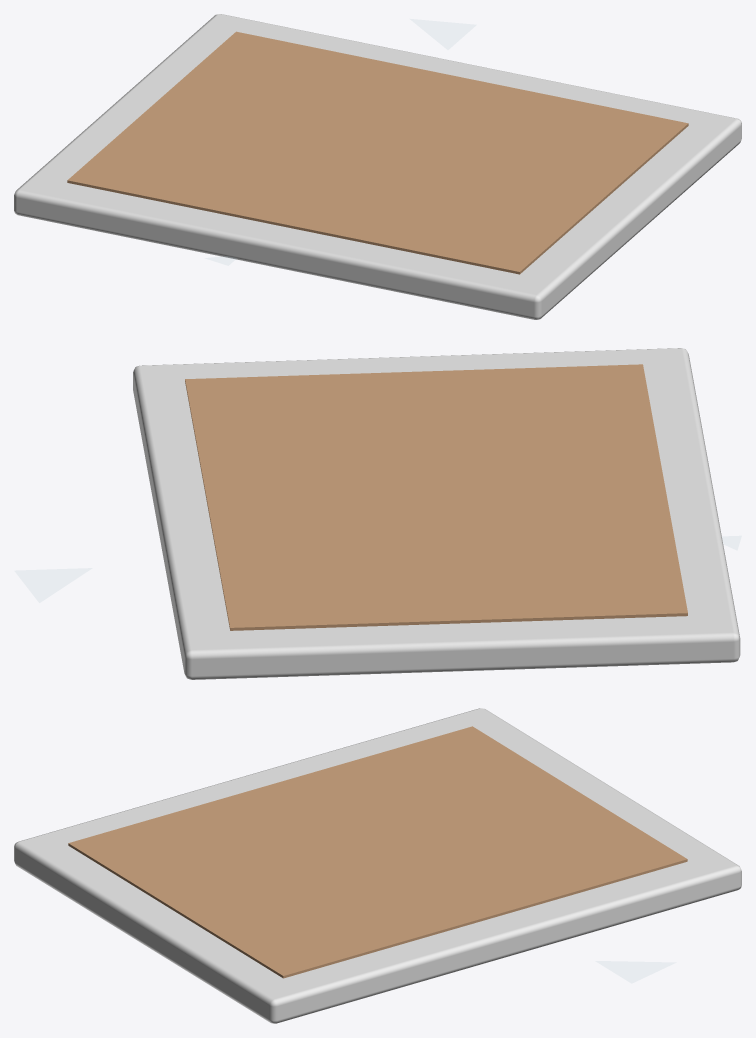
The model's file is ref_V_Porta_Retrato.glb.
The picture shows the model from 3 angles, top to bottom: view 1: azimuth 30°, elevation 25°; view 2: azimuth 150°, elevation 25°; view 3: azimuth 270°, elevation 25°; orthographic projection. The views are drawn at different scales.
Parts seen in each view (by area): view 1: V_Foto, V_Moldura, V_Cacos_Vidro; view 2: V_Foto, V_Moldura, V_Cacos_Vidro; view 3: V_Foto, V_Moldura, V_Cacos_Vidro.
Boxes of the visible parts, left/top/right/bottom form: V_Foto: left=67, top=31, right=688, bottom=274; V_Moldura: left=14, top=14, right=741, bottom=319; V_Cacos_Vidro: left=206, top=19, right=475, bottom=264; V_Foto: left=185, top=364, right=687, bottom=630; V_Moldura: left=133, top=348, right=740, bottom=679; V_Cacos_Vidro: left=15, top=536, right=740, bottom=602; V_Foto: left=68, top=726, right=687, bottom=978; V_Moldura: left=14, top=708, right=741, bottom=1023; V_Cacos_Vidro: left=597, top=961, right=673, bottom=982.
Size of the model in its own units: 0.5142 by 0.022 by 0.535.
